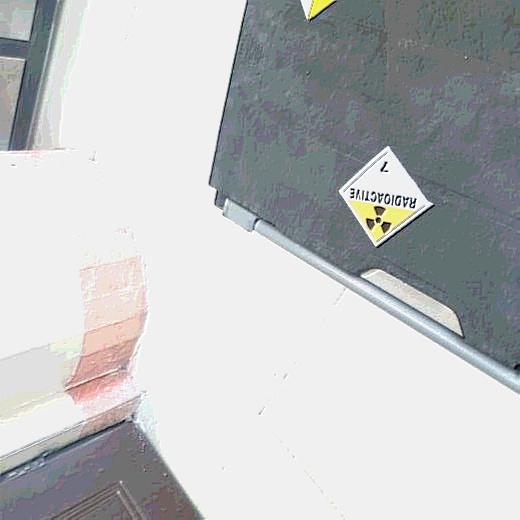radioactive: (338, 144, 436, 247)
